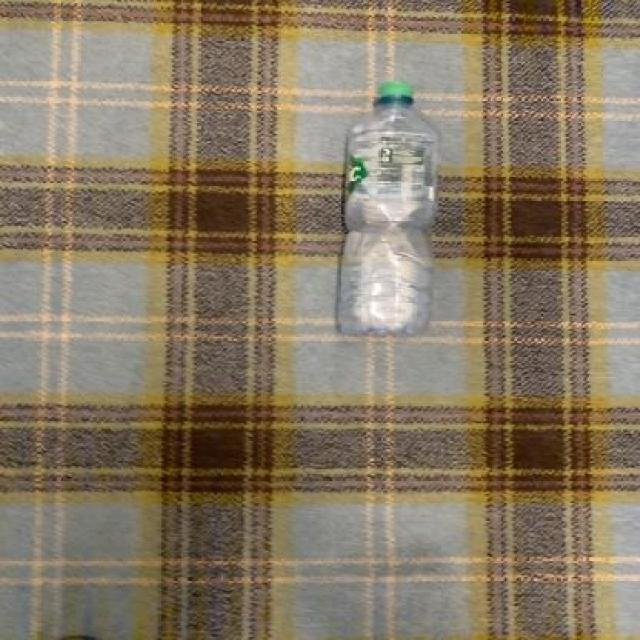trash: (338, 81, 444, 339)
